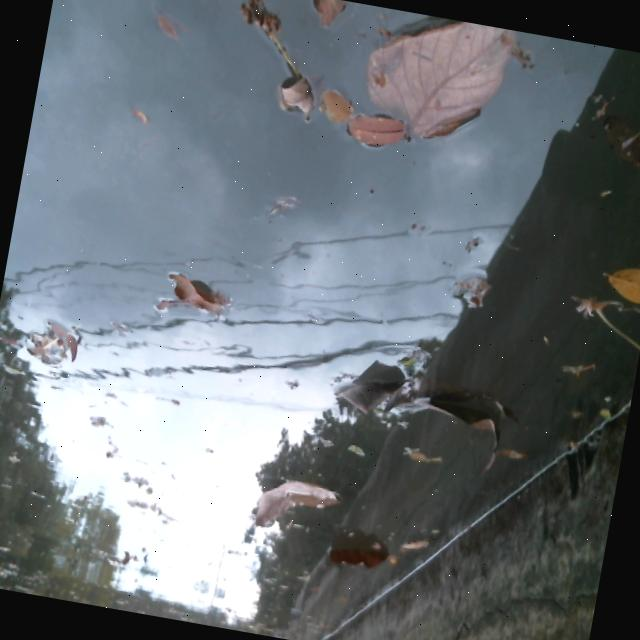Big-leaf: (349, 4, 532, 151), (396, 371, 519, 472), (243, 464, 346, 547), (324, 348, 404, 448), (325, 529, 395, 586), (604, 260, 640, 309)
Small-leaf: (145, 251, 240, 326), (225, 0, 308, 75), (569, 290, 640, 357), (16, 309, 83, 370), (343, 102, 408, 162), (440, 258, 500, 319), (271, 69, 325, 128), (96, 525, 156, 574), (130, 86, 167, 141), (265, 178, 309, 222), (156, 2, 192, 52), (320, 83, 355, 130), (306, 0, 345, 35), (399, 516, 434, 553), (559, 355, 602, 384)
